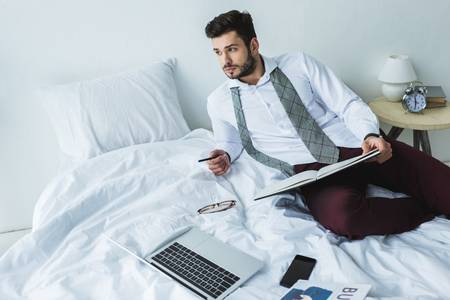S_shirt: (203, 52, 380, 177)
